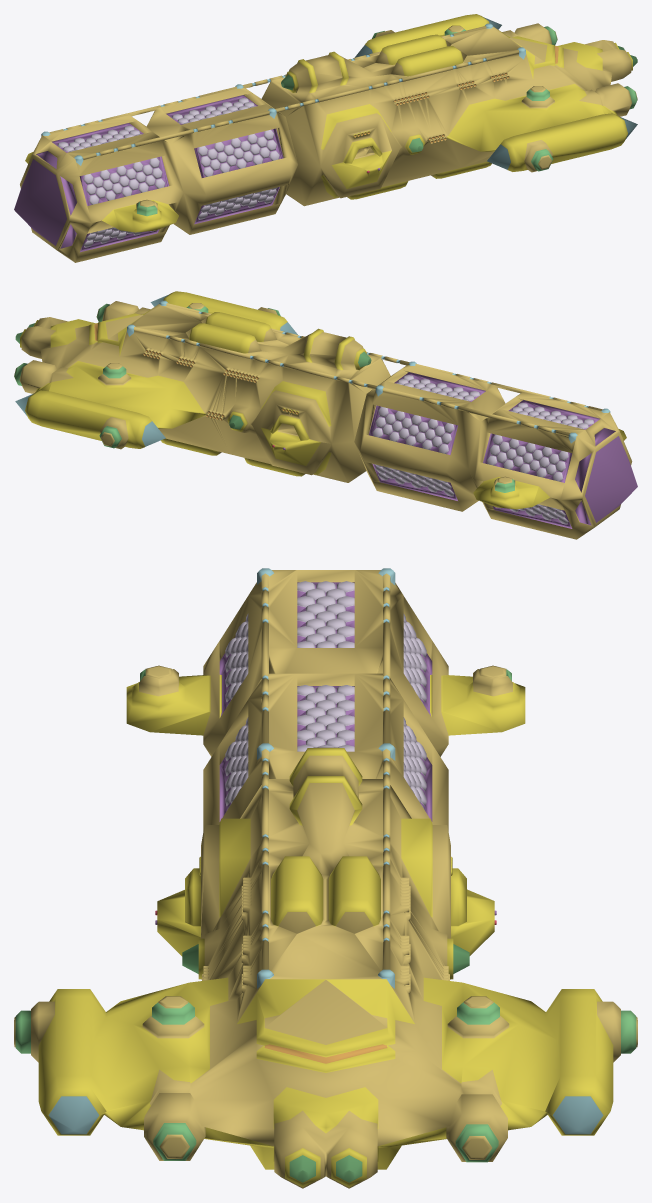
Rendered from vra-cluster.glb.
3 views of the same model, one above another, from view 1: azimuth 30°, elevation 25°; view 2: azimuth 150°, elevation 25°; view 3: azimuth 270°, elevation 25° (orthographic). The views are drawn at different scales.
Parts seen in each view (by area): view 1: Cluster current hull - authored COLOR_0 regions; view 2: Cluster current hull - authored COLOR_0 regions; view 3: Cluster current hull - authored COLOR_0 regions.
Boxes of the visible parts, box(x1,y1,x2,y2) form: Cluster current hull - authored COLOR_0 regions: box(14, 14, 637, 262); Cluster current hull - authored COLOR_0 regions: box(14, 291, 637, 539); Cluster current hull - authored COLOR_0 regions: box(14, 568, 637, 1188).
Size of the model in its own units: 8.07 by 1.72 by 3.81.
